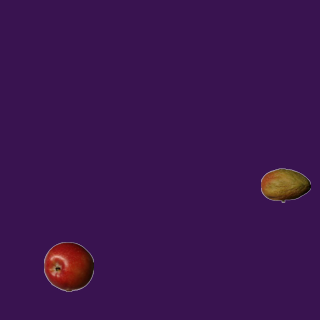Apple Braeburn: (43, 241, 93, 291)
Papaya: (260, 160, 310, 210)
